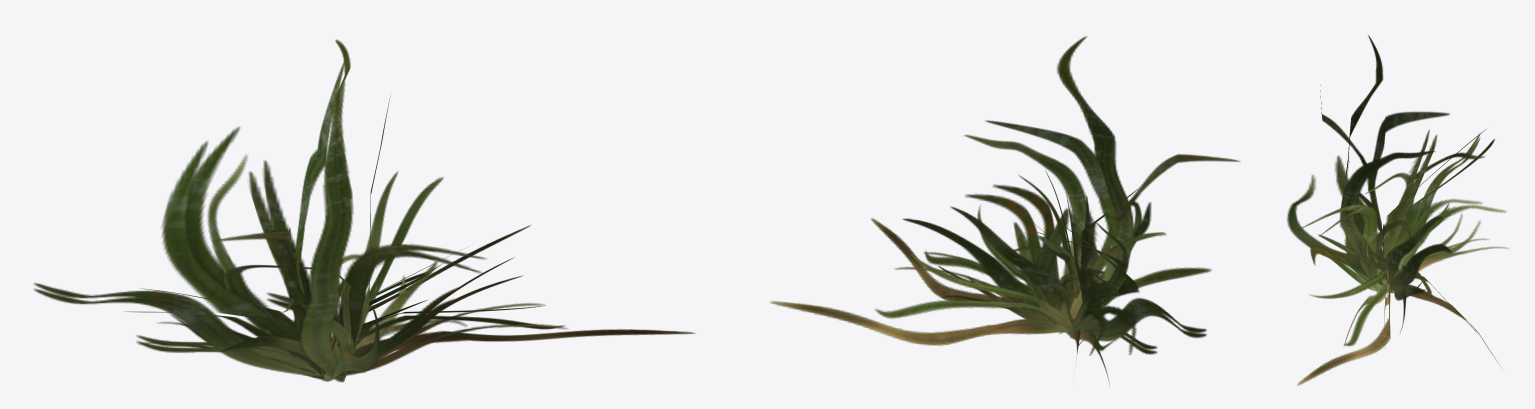
The model's file is bermuda-short.glb.
The picture shows the model from 3 angles, left to right: view 1: azimuth 30°, elevation 25°; view 2: azimuth 150°, elevation 25°; view 3: azimuth 270°, elevation 25°; orthographic projection. The views are drawn at different scales.
Visible parts, largest first — view 1: grass_bermuda_01_small_c, grass_bermuda_01_small_d, grass_bermuda_01_small_e, grass_bermuda_01_small_b, grass_bermuda_01_small_a, grass_bermuda_01_small_f; view 2: grass_bermuda_01_small_c, grass_bermuda_01_small_a, grass_bermuda_01_small_e, grass_bermuda_01_small_b, grass_bermuda_01_small_f, grass_bermuda_01_small_d; view 3: grass_bermuda_01_small_c, grass_bermuda_01_small_b, grass_bermuda_01_small_e, grass_bermuda_01_small_d, grass_bermuda_01_small_f, grass_bermuda_01_small_a.
Part boxes in pixels (box(x1,y1,x2,y2)): grass_bermuda_01_small_c: box(141, 126, 567, 381); grass_bermuda_01_small_d: box(125, 141, 544, 381); grass_bermuda_01_small_e: box(282, 39, 390, 382); grass_bermuda_01_small_b: box(34, 155, 695, 369); grass_bermuda_01_small_a: box(34, 225, 530, 376); grass_bermuda_01_small_f: box(215, 62, 346, 380); grass_bermuda_01_small_c: box(902, 170, 1142, 358); grass_bermuda_01_small_a: box(770, 221, 1206, 354); grass_bermuda_01_small_e: box(964, 36, 1151, 290); grass_bermuda_01_small_b: box(871, 205, 1206, 349); grass_bermuda_01_small_f: box(985, 120, 1239, 334); grass_bermuda_01_small_d: box(894, 175, 1139, 384); grass_bermuda_01_small_c: box(1287, 135, 1508, 347); grass_bermuda_01_small_b: box(1297, 133, 1485, 385); grass_bermuda_01_small_e: box(1339, 35, 1435, 292); grass_bermuda_01_small_d: box(1319, 129, 1488, 343); grass_bermuda_01_small_f: box(1320, 85, 1449, 293); grass_bermuda_01_small_a: box(1365, 138, 1501, 367).
Bounding box in the file's own units: 0.1406 × 0.0907 × 0.0705.
Materials: 1 (1 with a texture image).
